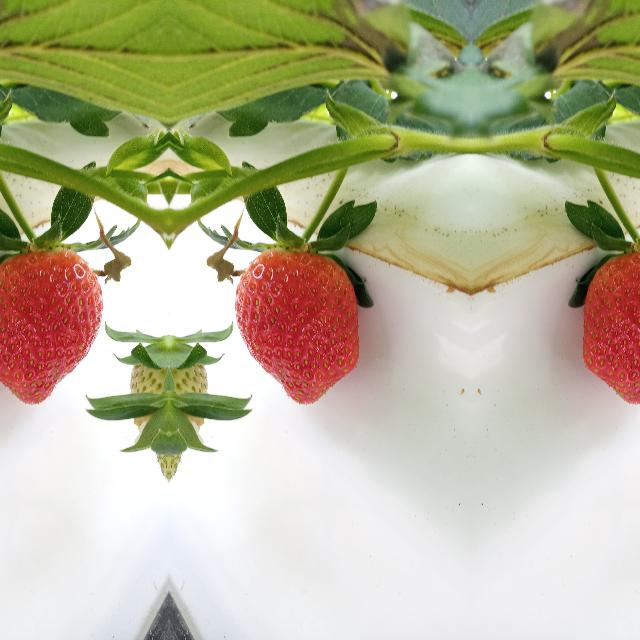Health_100: (234, 246, 358, 404), (0, 245, 102, 404), (582, 245, 640, 404)
